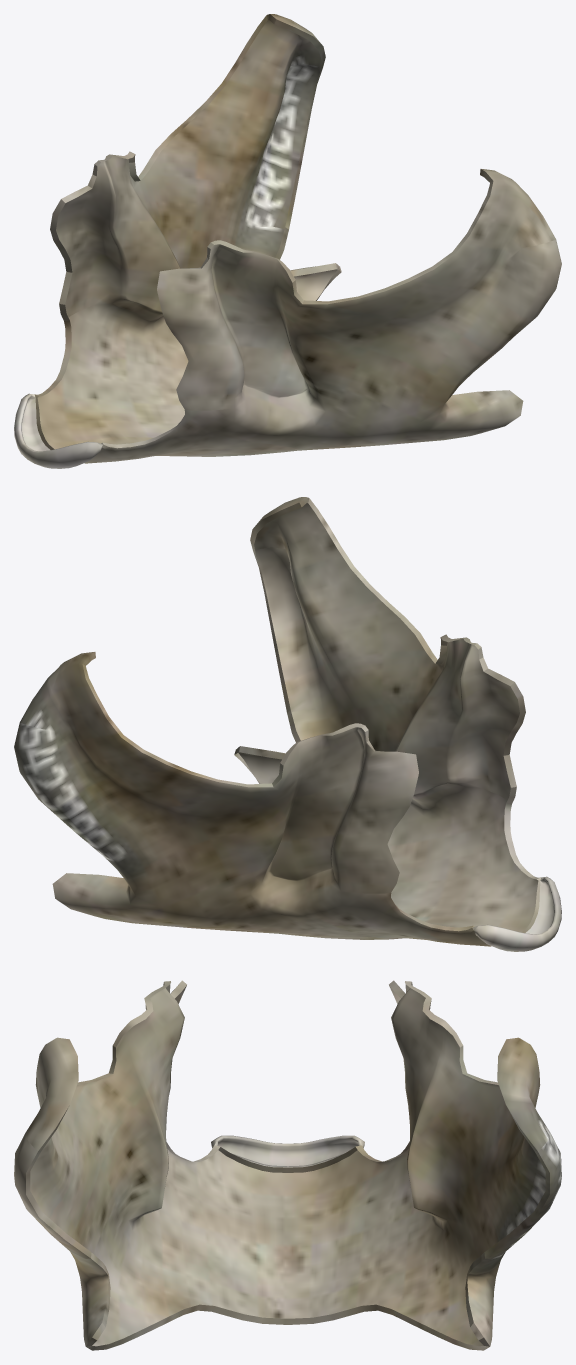
File: kepala2.glb
3 renders of one model, top to bottom at view 1: azimuth 30°, elevation 25°; view 2: azimuth 150°, elevation 25°; view 3: azimuth 270°, elevation 25°, orthographic. The views are drawn at different scales.
Parts seen in each view (by area): view 1: Tulang_MSH37, Tulang_MSH36; view 2: Tulang_MSH37, Tulang_MSH36; view 3: Tulang_MSH37, Tulang_MSH36.
Boxes of the visible parts, box(x1,y1,x2,y2) form: Tulang_MSH37: box(34, 14, 561, 463); Tulang_MSH36: box(14, 393, 102, 468); Tulang_MSH37: box(14, 497, 541, 946); Tulang_MSH36: box(473, 876, 561, 951); Tulang_MSH37: box(14, 980, 561, 1350); Tulang_MSH36: box(211, 1135, 364, 1167).
Bounding box in the file's own units: 0.0489 × 0.0363 × 0.0524.
Materials: 1 (1 with a texture image).
